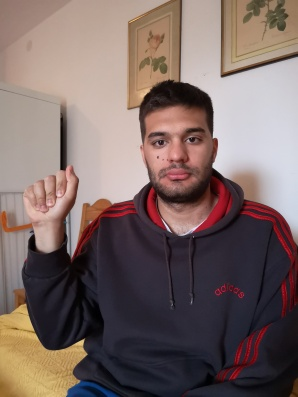A: (22, 164, 80, 227)
